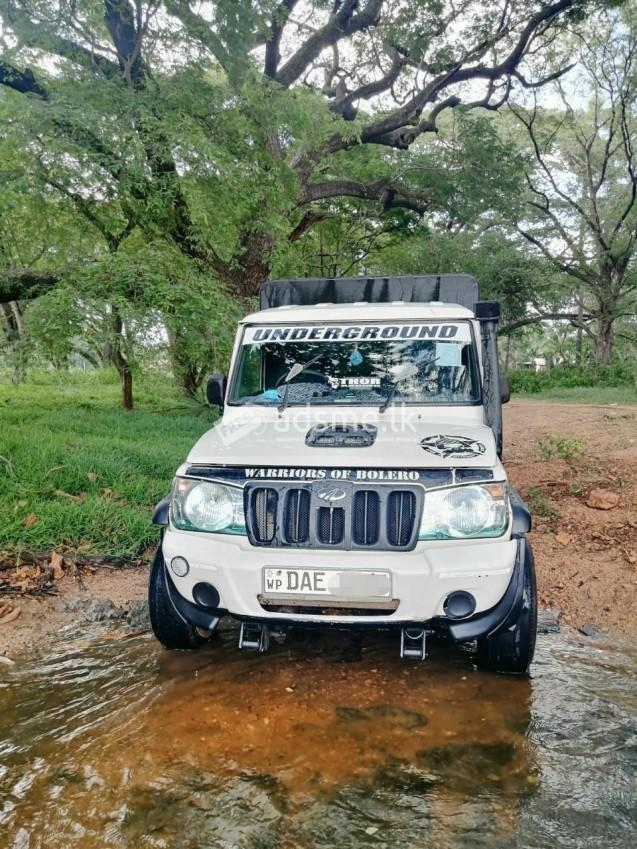truck: (148, 274, 538, 677)
